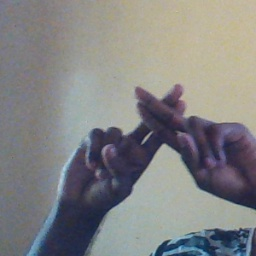F: (92, 76, 236, 177)
